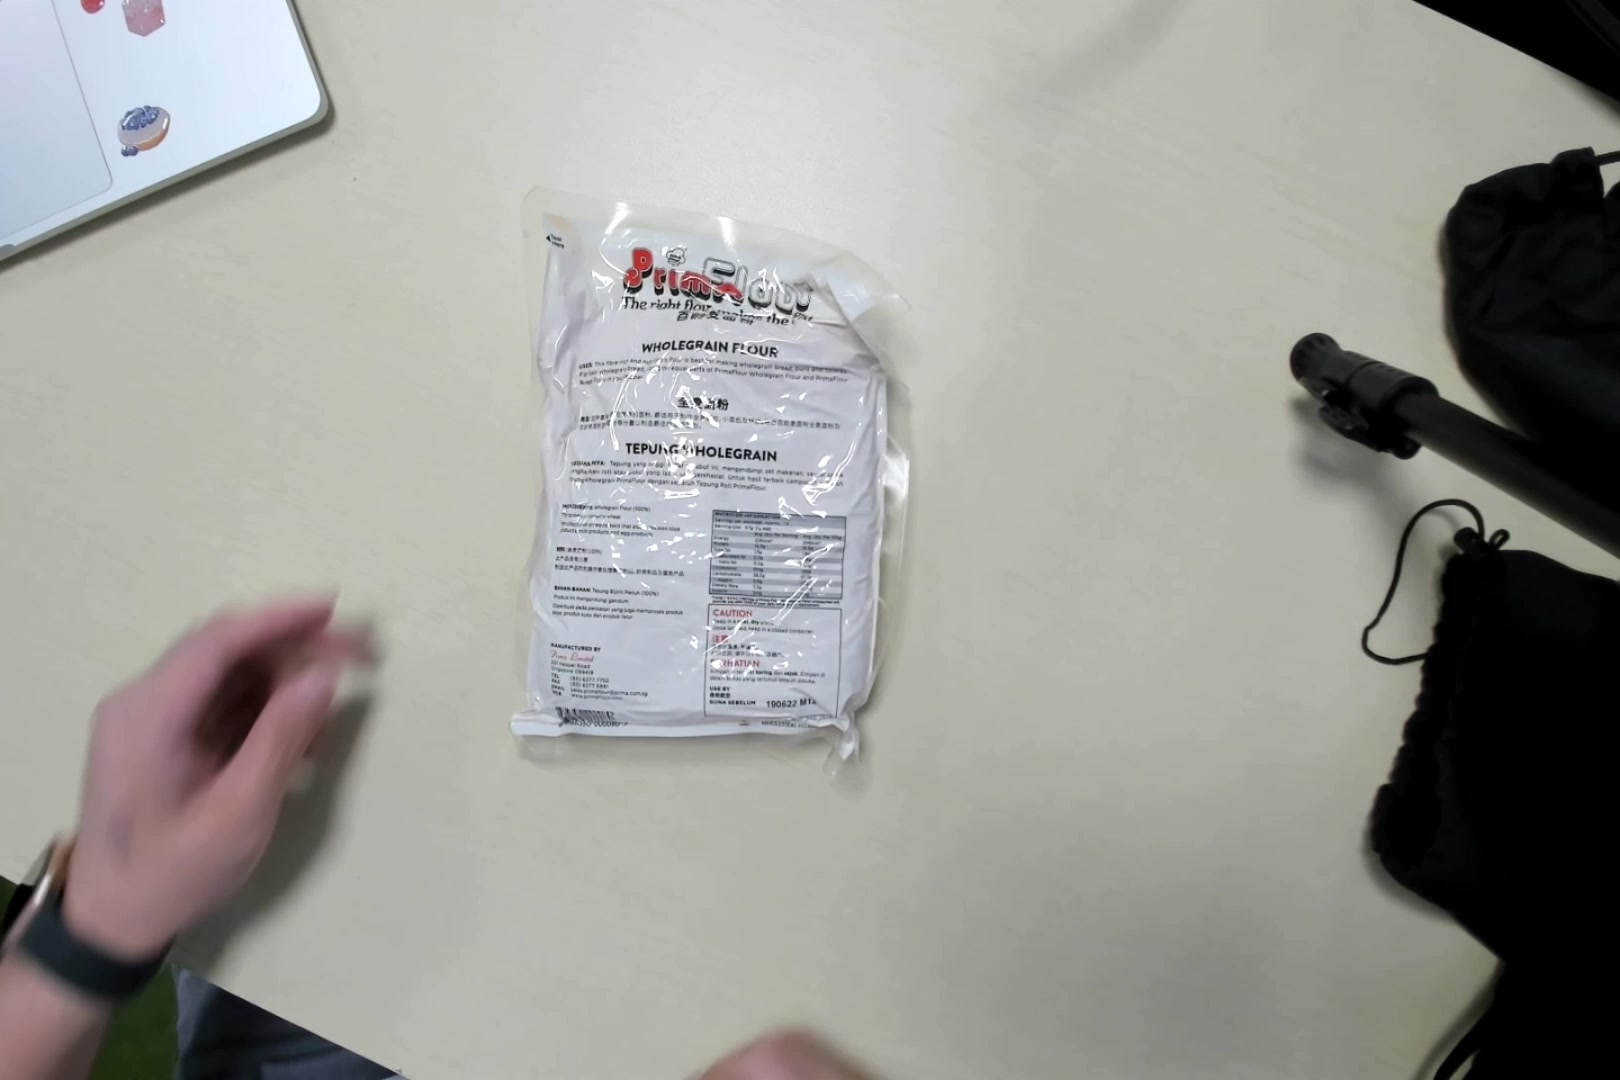OtherBakingNeeds_400-499g_Halal_NonHealthy: (526, 190, 903, 761)
